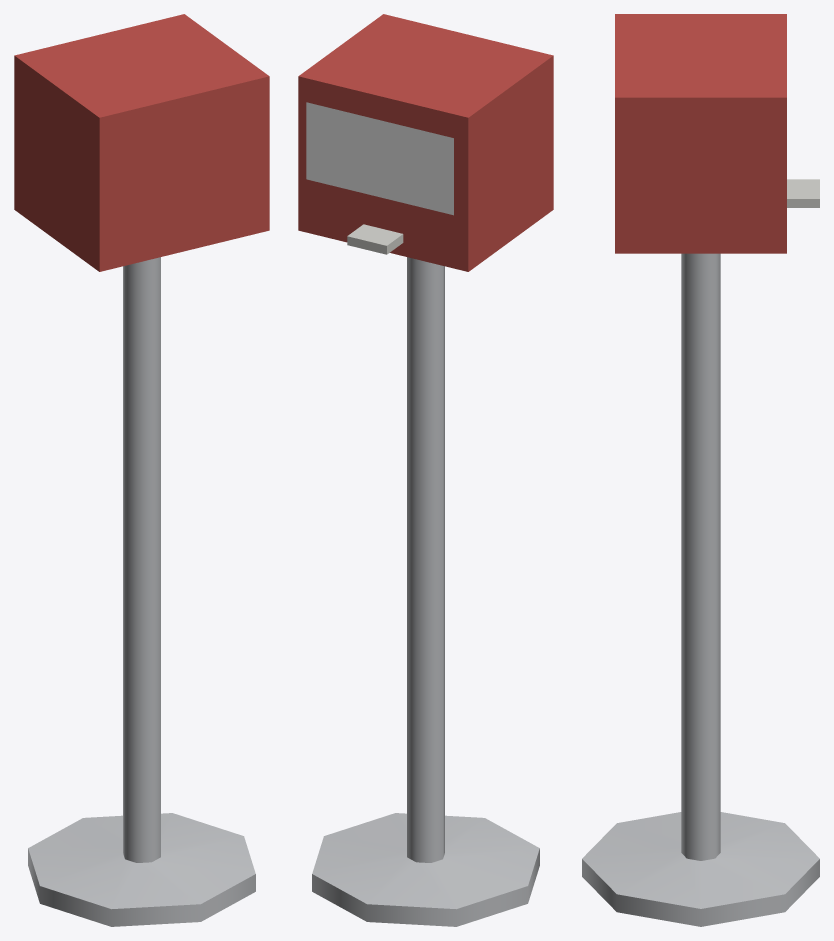
File: ticket_dispenser.glb
The picture shows the model from 3 angles, left to right: view 1: azimuth 30°, elevation 25°; view 2: azimuth 150°, elevation 25°; view 3: azimuth 270°, elevation 25°; orthographic projection.
Visible parts, largest first — view 1: Ticket_dispenser; view 2: Ticket_dispenser; view 3: Ticket_dispenser.
Part boxes in pixels (x1,y1,x2,y2): Ticket_dispenser: (14,14,269,926); Ticket_dispenser: (298,14,553,926); Ticket_dispenser: (582,14,819,926).
Bounding box in the file's own units: 0.36 × 1.37 × 0.36.
